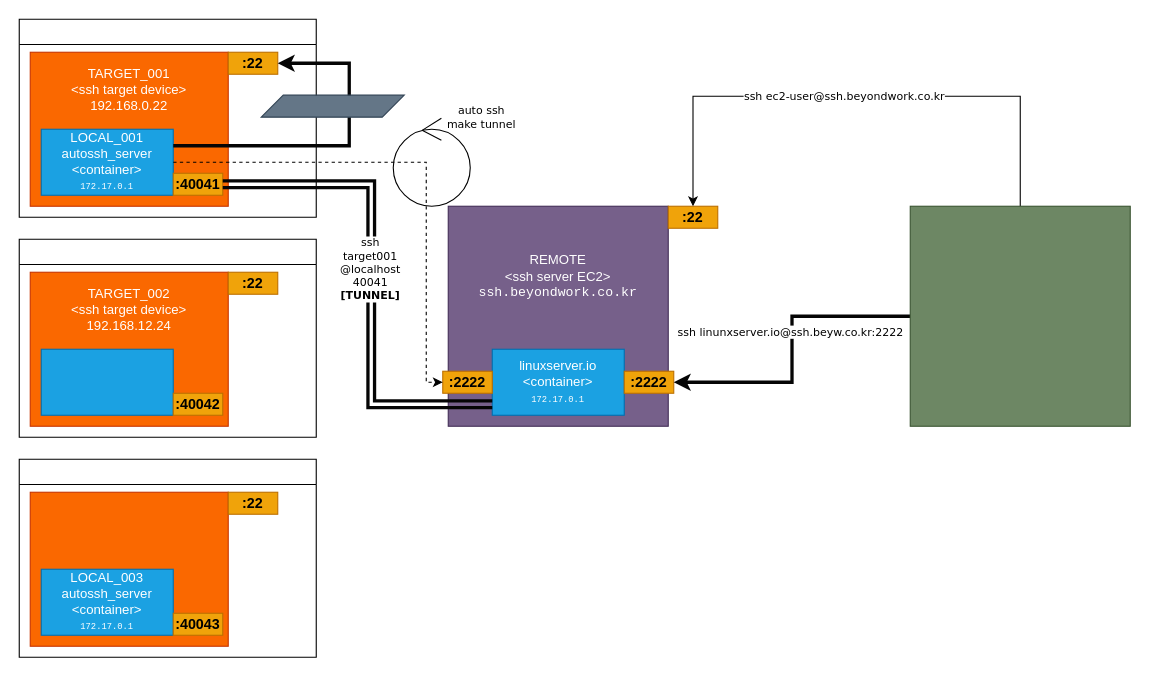
Image size: 1150x677. Some labels were removed from this diagram. The box of each missing label's shape, as (x1, y1, x2, y2) in pixels:
host.docker.internal host.containers.internal: (260, 94, 404, 117)
LOCAL_002 autossh_server <container> 172.17.0.1: (40, 348, 173, 415)
SOURCE <User's device> 203.0.113.20: (909, 205, 1130, 426)
TARGET DEVICE NETWORK 10.1.0.101: (18, 18, 316, 217)
TARGET DEVICE NETWORK 15.1.0.103: (18, 238, 316, 437)
TARGET DEVICE NETWORK 217.1.13.202: (18, 458, 316, 657)
TARGET_003 <ssh target device> 192.168.1.1: (29, 491, 228, 646)
